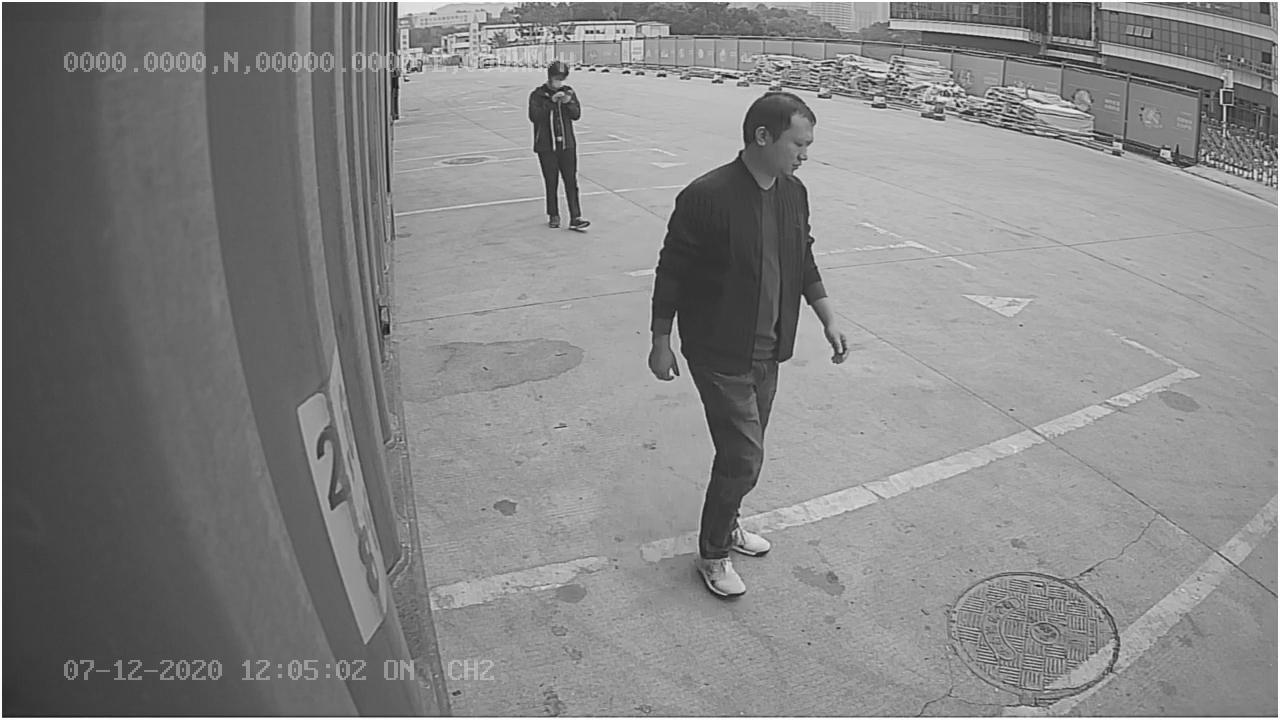person: (643, 92, 858, 599)
